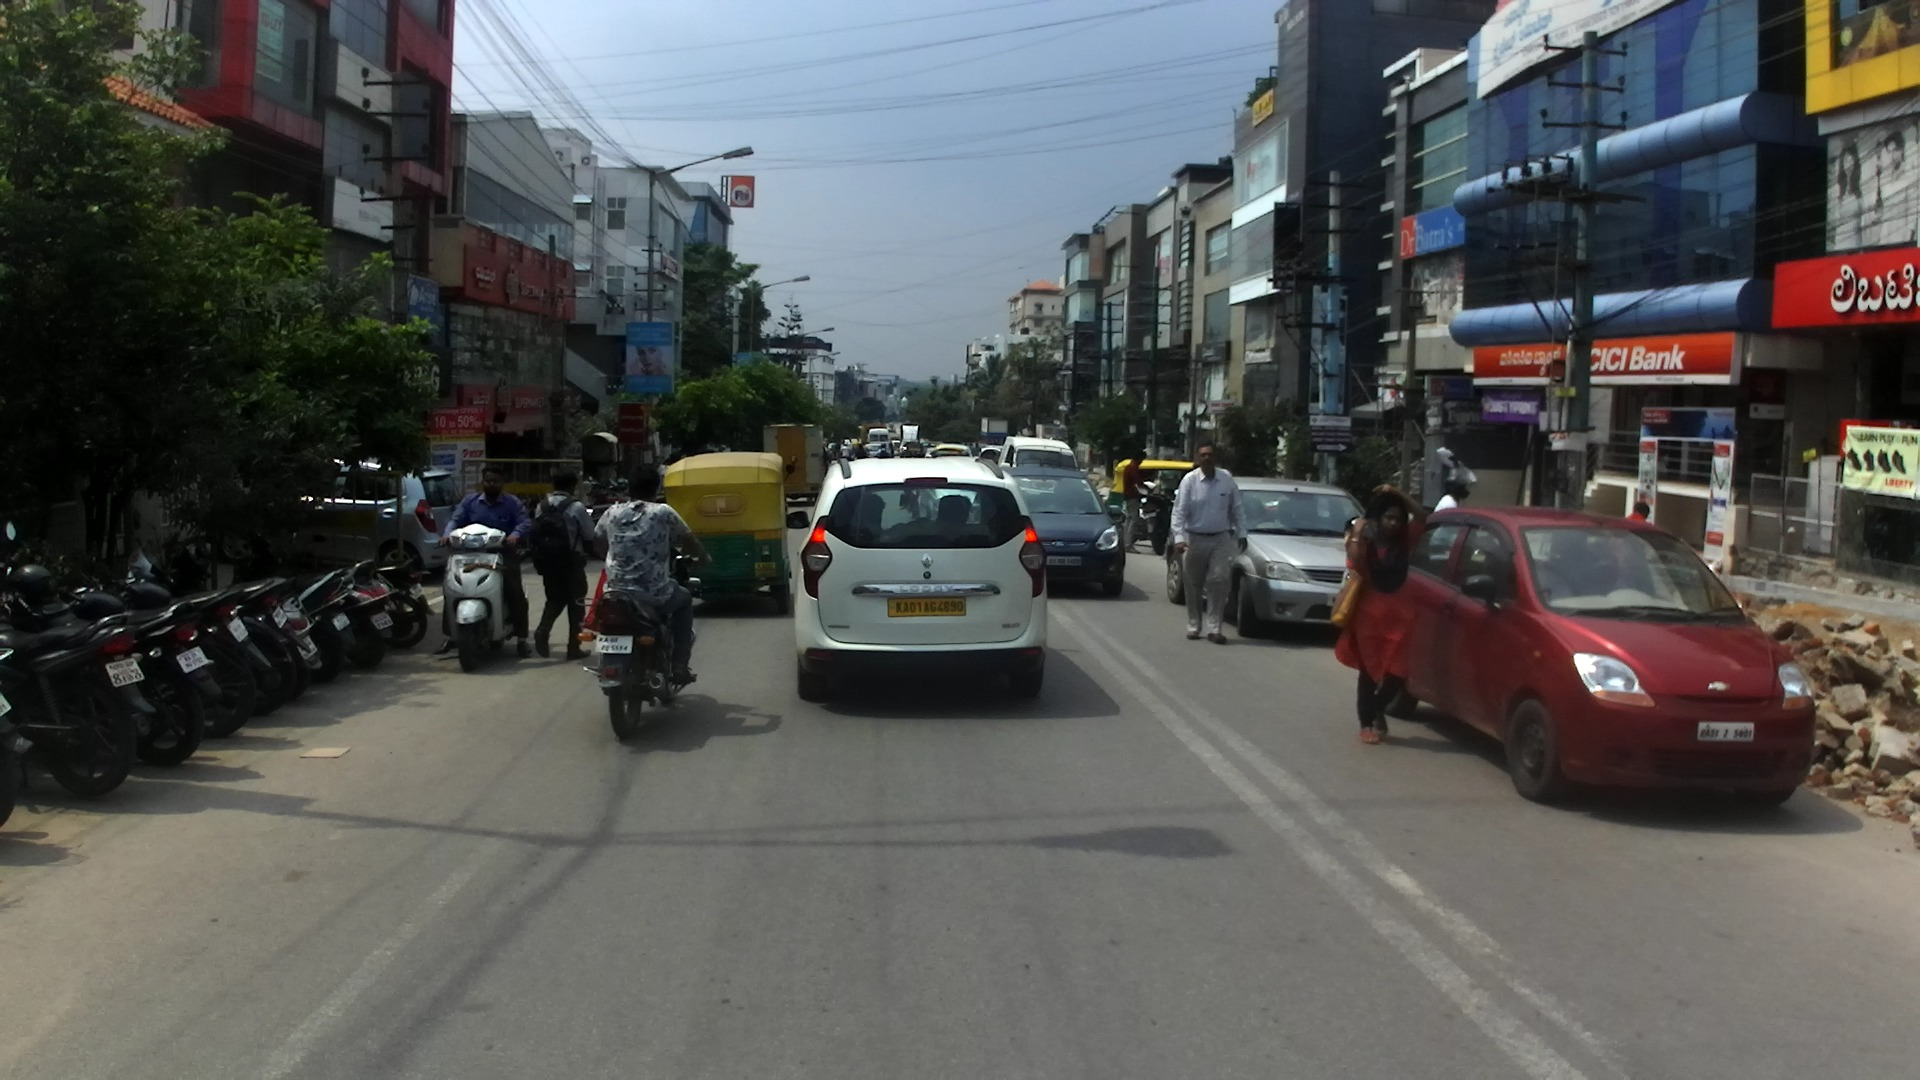autorickshaw: (661, 452, 797, 615), (1103, 458, 1205, 542)
bus: (865, 427, 891, 461), (857, 421, 889, 448)
car: (1366, 505, 1817, 808), (784, 452, 1049, 702), (1163, 474, 1369, 640), (273, 458, 463, 585), (998, 466, 1126, 598), (928, 443, 976, 461), (977, 446, 1008, 465), (860, 442, 886, 458), (899, 439, 921, 459), (827, 442, 839, 462), (924, 447, 938, 460), (919, 440, 944, 447), (843, 439, 862, 445)
motorcycle: (1, 525, 225, 767), (2, 601, 157, 797), (575, 542, 716, 739), (94, 567, 274, 718), (161, 577, 326, 698), (276, 531, 436, 651), (230, 552, 391, 669), (432, 533, 529, 674), (1, 634, 34, 820), (581, 490, 669, 561), (121, 535, 213, 598), (1107, 489, 1161, 550), (1138, 486, 1182, 556), (584, 481, 634, 505), (601, 473, 640, 504), (825, 456, 832, 476), (842, 455, 854, 463)
person: (1328, 483, 1430, 747), (1170, 442, 1249, 646), (528, 466, 597, 661), (1120, 449, 1154, 554), (1625, 501, 1652, 522), (970, 442, 982, 458), (848, 437, 856, 454), (968, 441, 973, 447), (963, 442, 967, 445)
rider: (592, 462, 711, 684), (430, 466, 534, 656), (1433, 465, 1479, 516), (181, 532, 214, 593), (856, 442, 868, 461), (839, 441, 852, 458), (823, 445, 829, 470), (824, 435, 829, 445), (824, 440, 828, 450)
truck: (761, 422, 827, 502), (996, 434, 1081, 479), (899, 423, 922, 449)
vehicle fallback: (901, 441, 927, 459), (890, 439, 901, 456), (888, 422, 896, 433), (890, 436, 902, 442)
